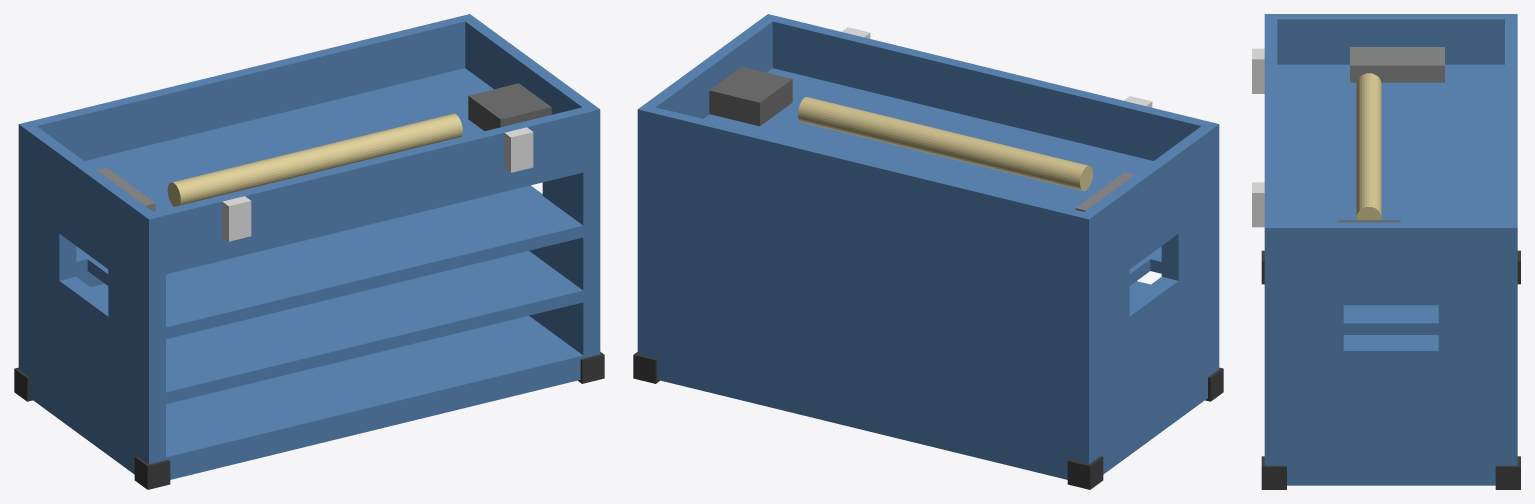
File: Toolbox.glb
3 renders of one model, left to right at view 1: azimuth 30°, elevation 25°; view 2: azimuth 150°, elevation 25°; view 3: azimuth 270°, elevation 25°, orthographic. The views are drawn at different scales.
Parts seen in each view (by area): view 1: Toolbox-BaseAssembly-BooleanDifference-Cube-cube, Toolbox-BaseAssembly-TopTrayTools-Cylinder-cylinder, Toolbox-BaseAssembly-TopTrayTools-Cube-cube, Toolbox-BaseAssembly-Cube-cube.005, Toolbox-BaseAssembly-Cube-cube.004, Toolbox-BaseAssembly-Cube-cube, Toolbox-BaseAssembly-Cube-cube.002; view 2: Toolbox-BaseAssembly-BooleanDifference-Cube-cube, Toolbox-BaseAssembly-TopTrayTools-Cylinder-cylinder, Toolbox-BaseAssembly-TopTrayTools-Cube-cube, Toolbox-BaseAssembly-Cube-cube.001, Toolbox-BaseAssembly-Cube-cube.003; view 3: Toolbox-BaseAssembly-BooleanDifference-Cube-cube, Toolbox-BaseAssembly-TopTrayTools-Cylinder-cylinder, Toolbox-BaseAssembly-TopTrayTools-Cube-cube.001, Toolbox-BaseAssembly-Cube-cube.002, Toolbox-BaseAssembly-Cube-cube.003, Toolbox-BaseAssembly-Cube-cube.004, Toolbox-BaseAssembly-Cube-cube.005.
Part boxes in pixels (x1,y1,x2,y2): Toolbox-BaseAssembly-BooleanDifference-Cube-cube: (18, 14, 600, 479); Toolbox-BaseAssembly-TopTrayTools-Cylinder-cylinder: (167, 113, 462, 206); Toolbox-BaseAssembly-TopTrayTools-Cube-cube: (468, 83, 551, 131); Toolbox-BaseAssembly-Cube-cube.005: (504, 127, 533, 172); Toolbox-BaseAssembly-Cube-cube.004: (222, 196, 251, 241); Toolbox-BaseAssembly-Cube-cube: (134, 456, 170, 489); Toolbox-BaseAssembly-Cube-cube.002: (578, 352, 604, 383); Toolbox-BaseAssembly-BooleanDifference-Cube-cube: (637, 14, 1219, 479); Toolbox-BaseAssembly-TopTrayTools-Cylinder-cylinder: (798, 97, 1092, 190); Toolbox-BaseAssembly-TopTrayTools-Cube-cube: (709, 66, 792, 126); Toolbox-BaseAssembly-Cube-cube.001: (1067, 456, 1103, 489); Toolbox-BaseAssembly-Cube-cube.003: (633, 352, 659, 383); Toolbox-BaseAssembly-BooleanDifference-Cube-cube: (1264, 14, 1517, 485); Toolbox-BaseAssembly-TopTrayTools-Cylinder-cylinder: (1356, 73, 1381, 220); Toolbox-BaseAssembly-TopTrayTools-Cube-cube.001: (1350, 47, 1444, 82); Toolbox-BaseAssembly-Cube-cube.002: (1261, 456, 1286, 489); Toolbox-BaseAssembly-Cube-cube.003: (1495, 456, 1520, 489); Toolbox-BaseAssembly-Cube-cube.004: (1252, 48, 1264, 93); Toolbox-BaseAssembly-Cube-cube.005: (1252, 182, 1264, 227).
Bounding box in the file's own units: 0.81 × 0.455 × 0.425.
